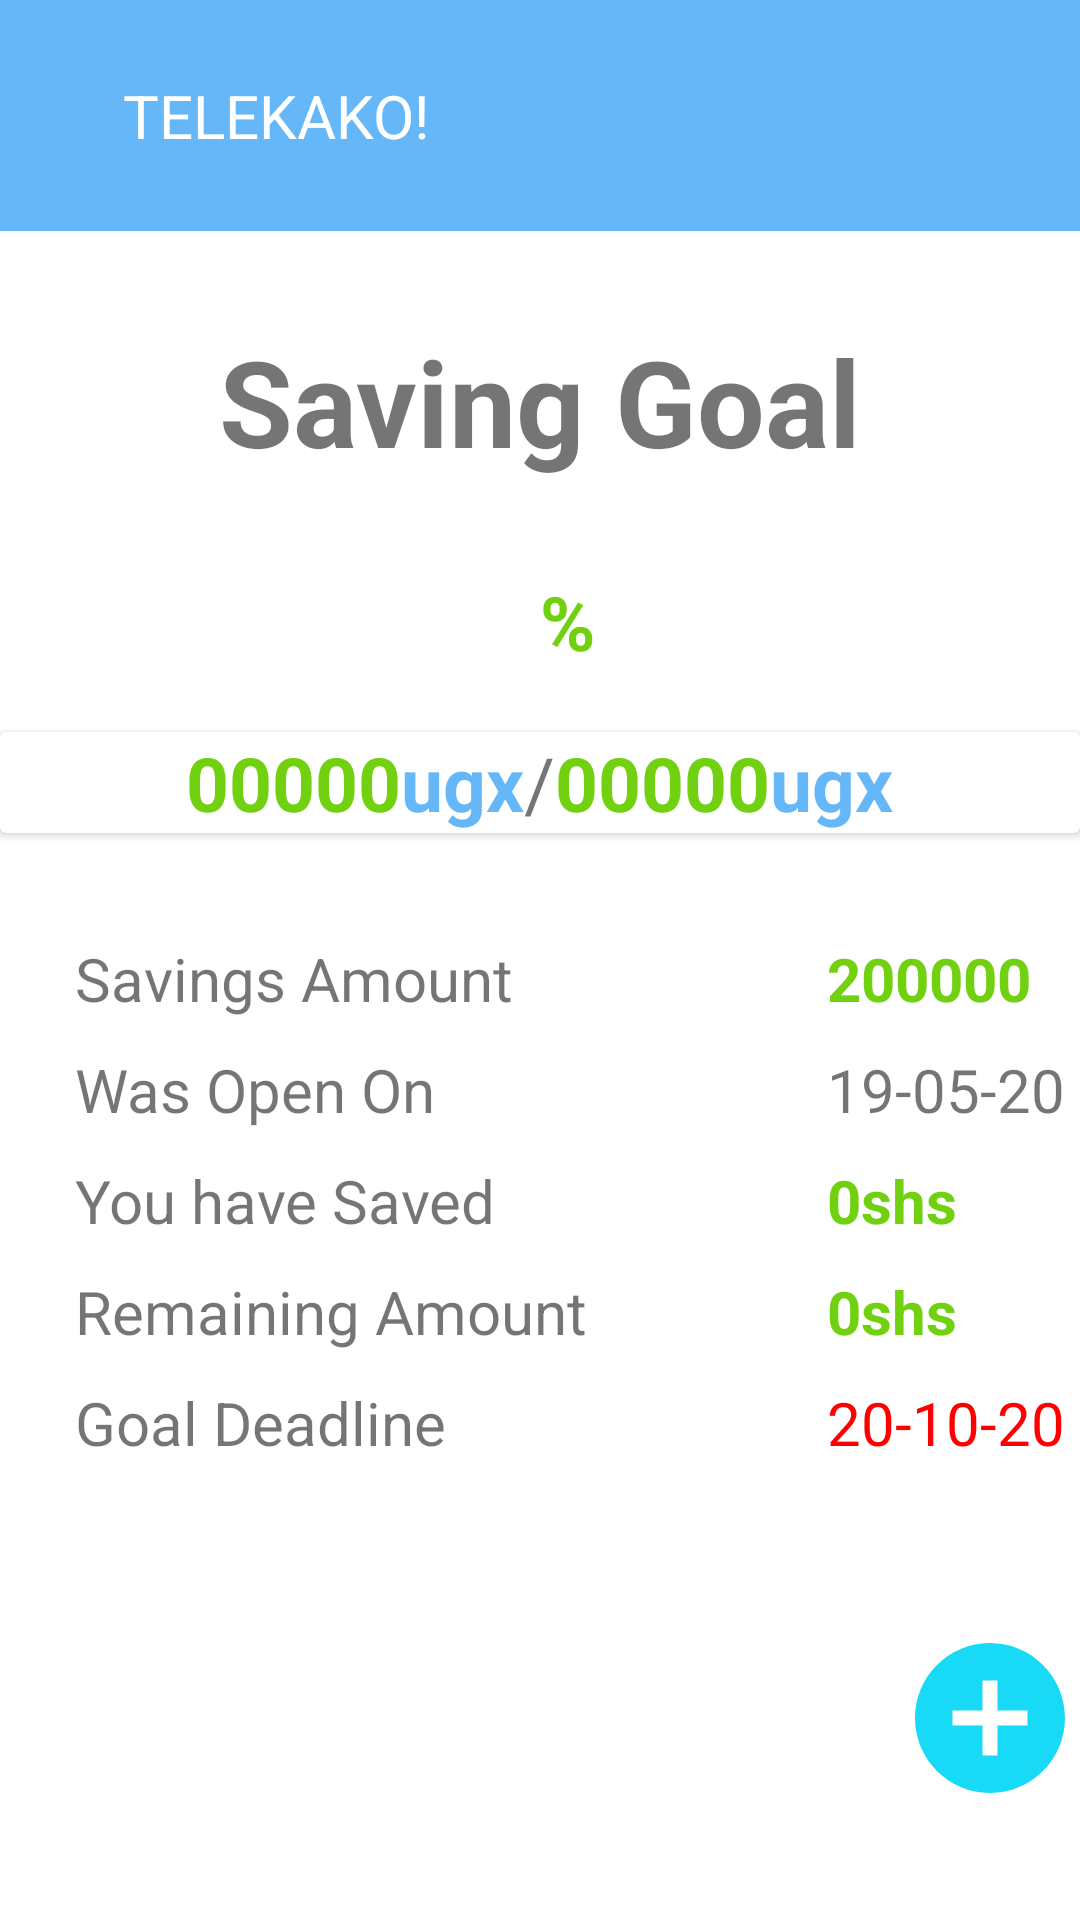

Named icons in this screenshot (1080x1920) and their bounding boxes, (x1, y1, x2, y2):
add circle: (915, 1643, 1065, 1793)
